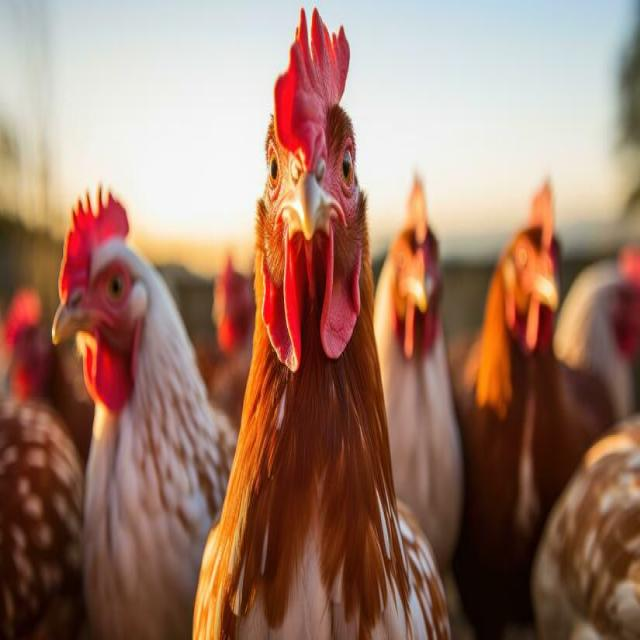Chicken: (216, 29, 411, 640), (56, 195, 200, 600), (465, 184, 576, 512), (378, 170, 456, 529)
